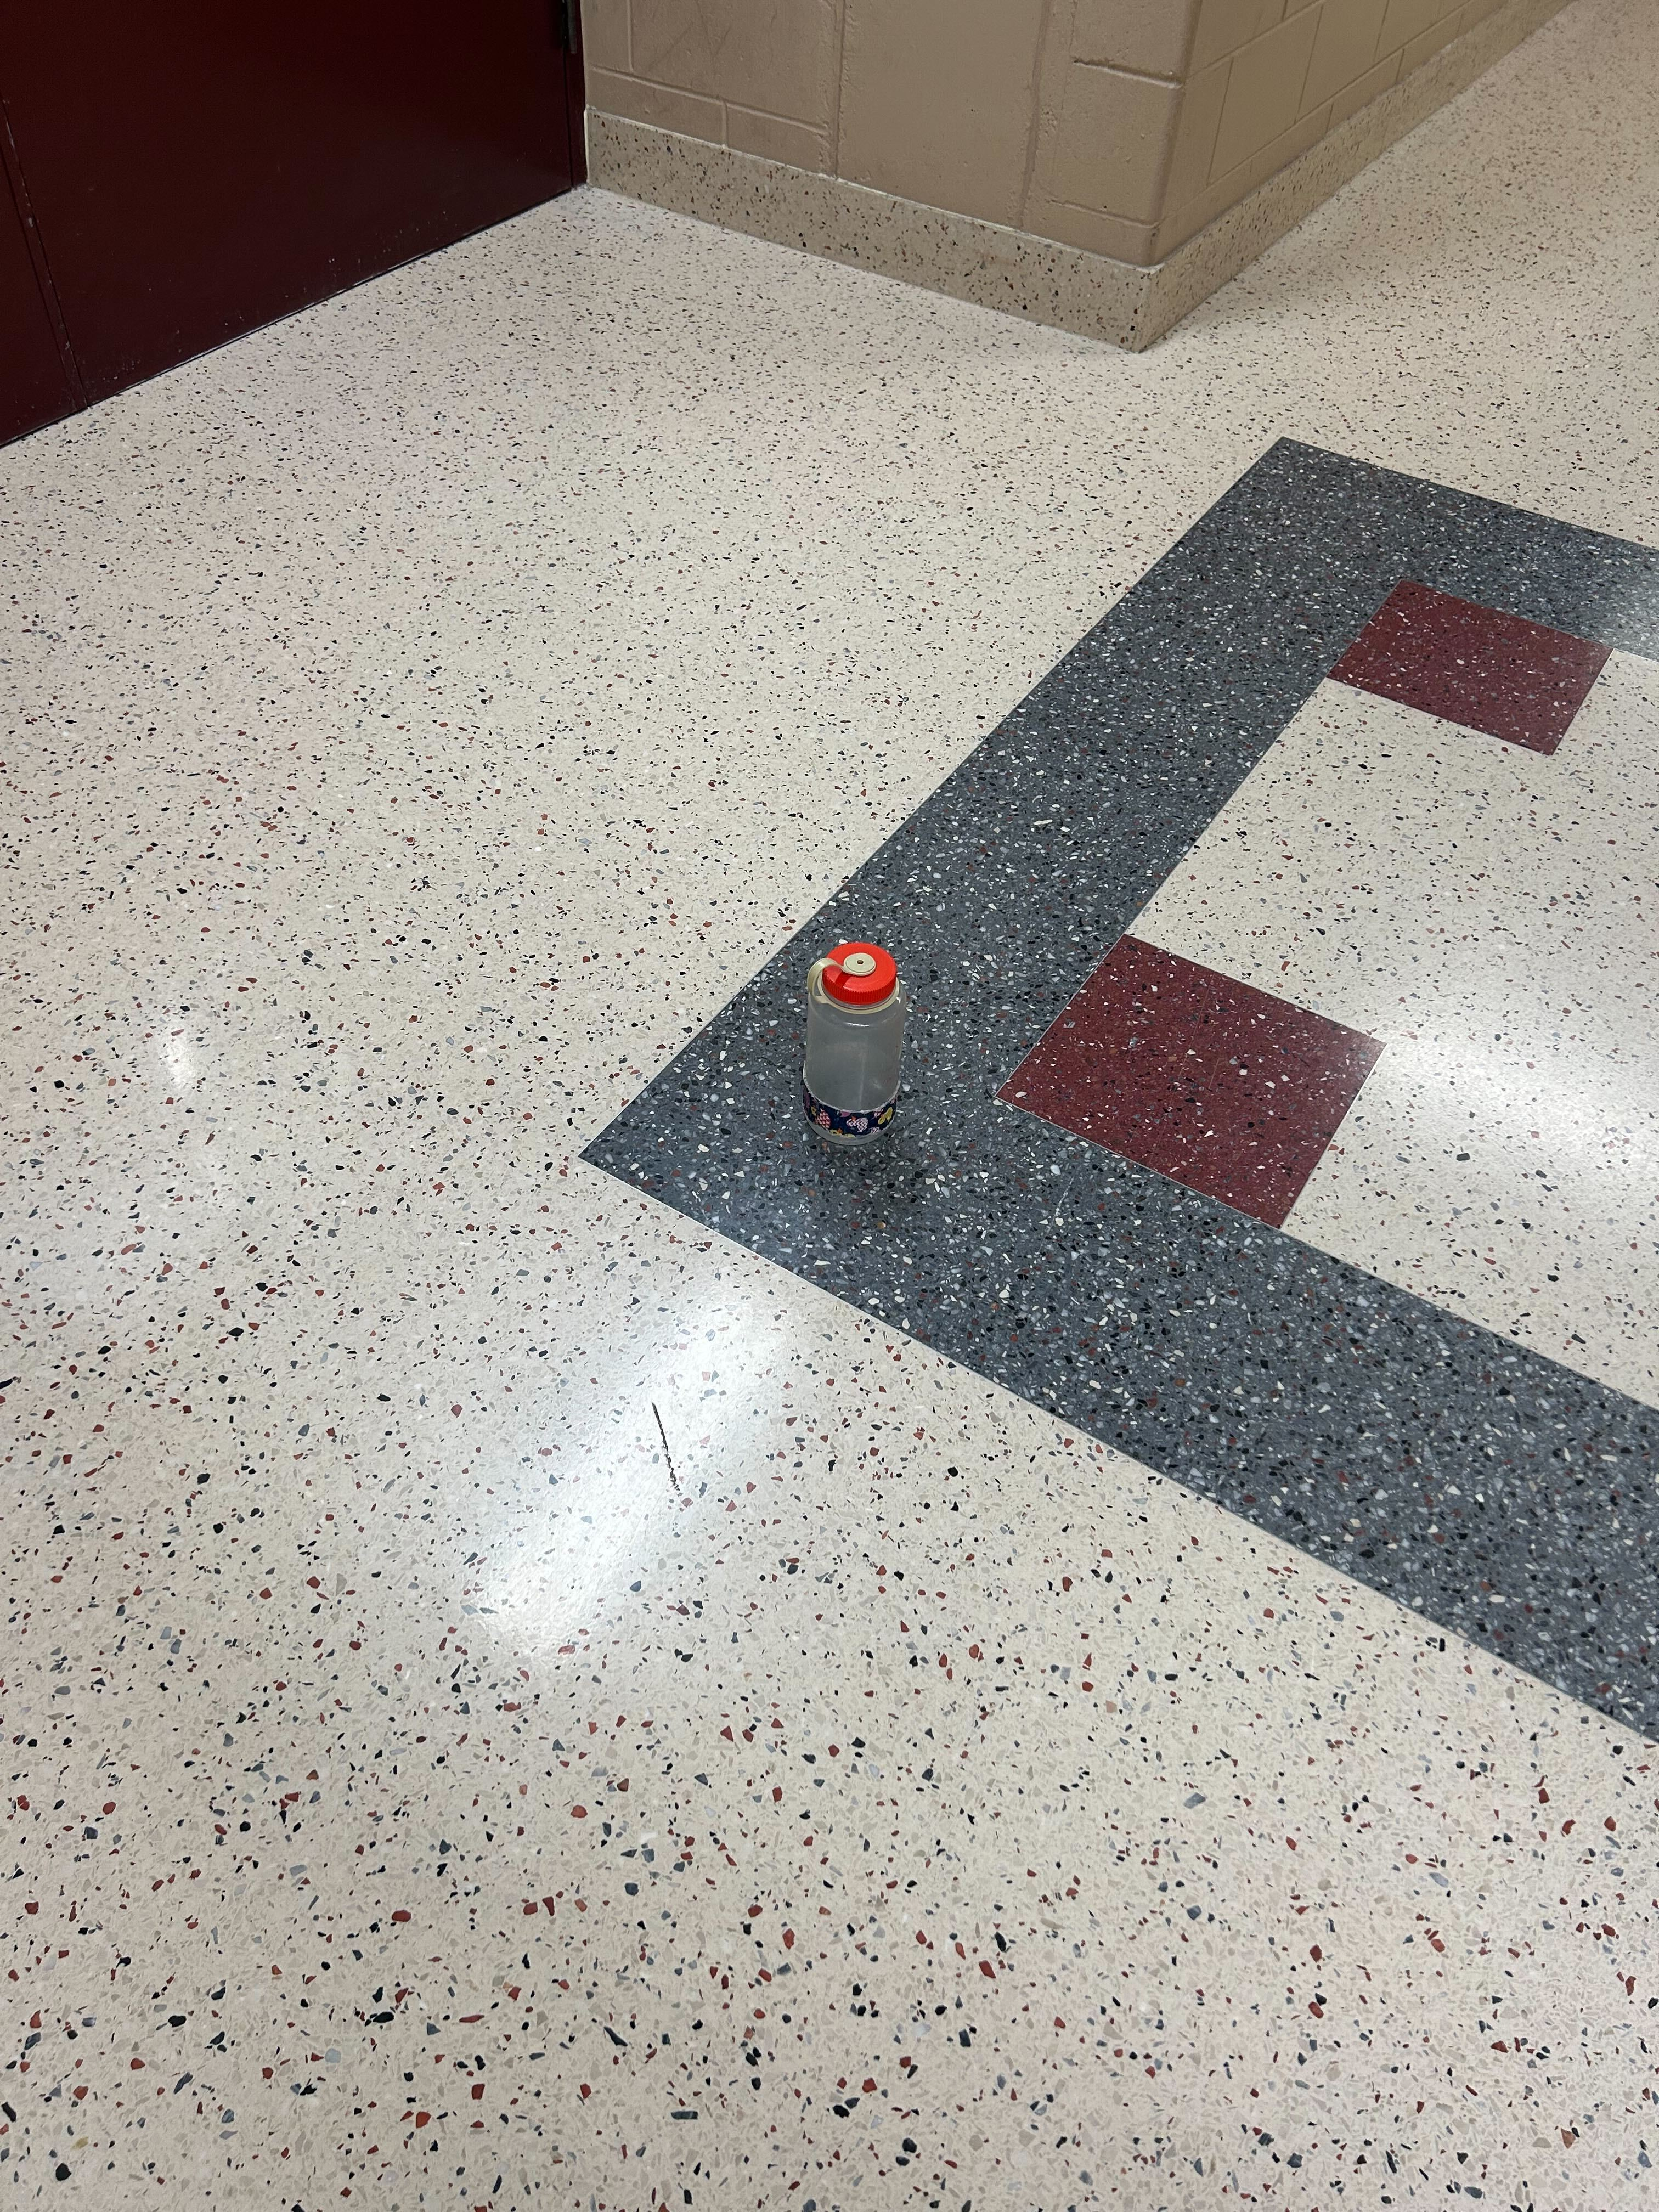bottle: (796, 927, 911, 1172)
